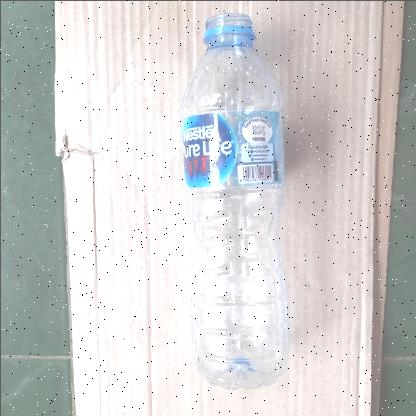Plastic Bottle: (180, 11, 286, 389)
